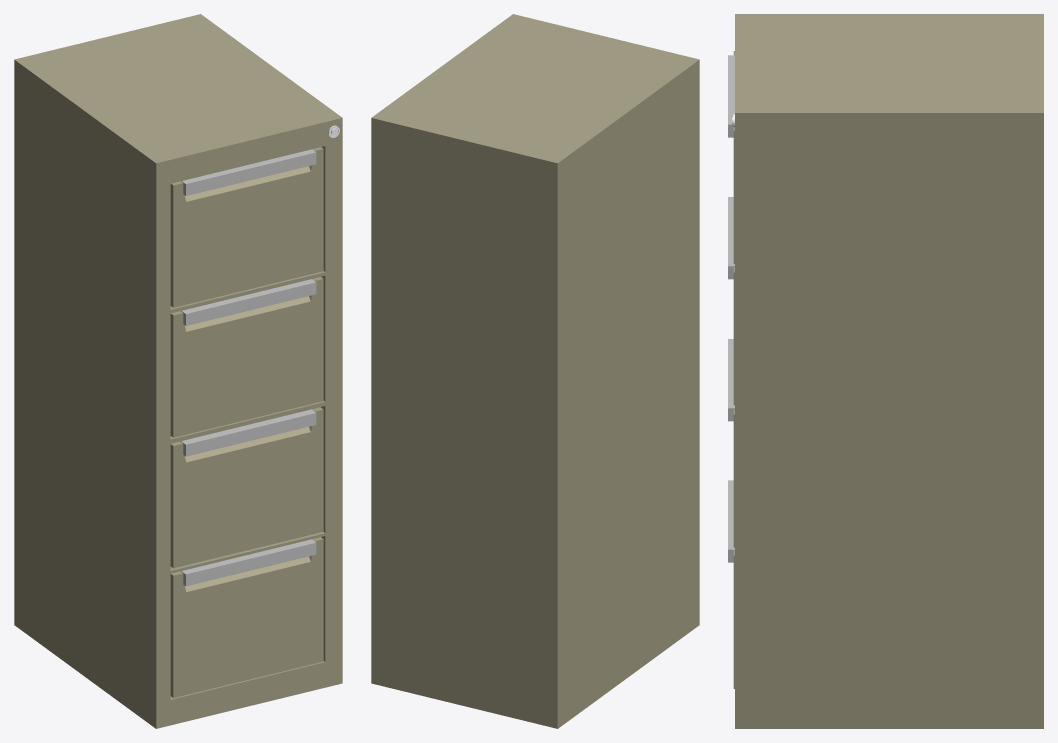
Rendered from CabinetTall.fbx.
3 views of the same model, side by side, from view 1: azimuth 30°, elevation 25°; view 2: azimuth 150°, elevation 25°; view 3: azimuth 270°, elevation 25° (orthographic). The views are drawn at different scales.
Parts seen in each view (by area): view 1: Cabinet, Drawer1.006, Drawer1.002, Drawer1.004, Drawer1, Drawer1.007, Drawer1.003, Drawer1.005, Drawer1.001; view 2: Cabinet; view 3: Cabinet, Drawer1.001.
Part boxes in pixels (left/top/right/bottom): Cabinet: left=14, top=14, right=342, bottom=728; Drawer1.006: left=170, top=407, right=323, bottom=568; Drawer1.002: left=170, top=537, right=323, bottom=697; Drawer1.004: left=170, top=277, right=323, bottom=437; Drawer1: left=170, top=147, right=323, bottom=307; Drawer1.007: left=180, top=409, right=316, bottom=456; Drawer1.003: left=181, top=539, right=316, bottom=586; Drawer1.005: left=181, top=279, right=316, bottom=325; Drawer1.001: left=181, top=149, right=316, bottom=195; Cabinet: left=371, top=14, right=699, bottom=728; Cabinet: left=735, top=14, right=1043, bottom=728; Drawer1.001: left=728, top=55, right=734, bottom=137.
Bounding box in the file's own units: 196 × 567 × 264.
